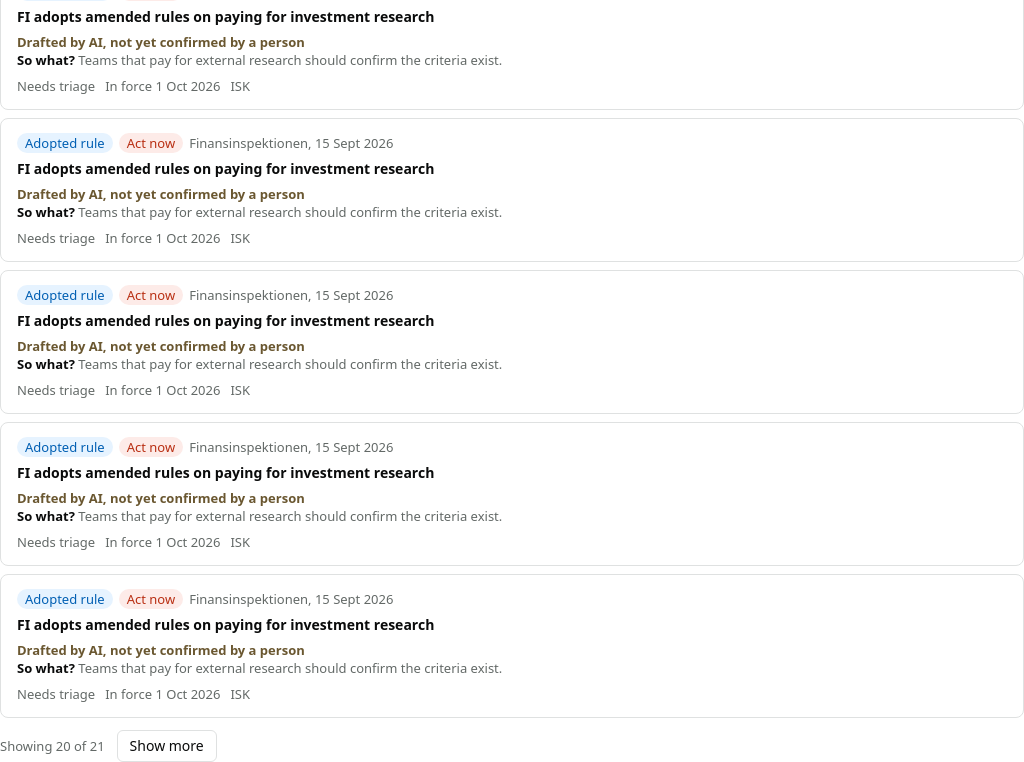
Test case: the watch feed screen › offers another page only while one is left, and appends it
(page scrolled)
Step 1. Click the button "Show more" → (167, 746), box [117,730,217,761]
(page scrolled)
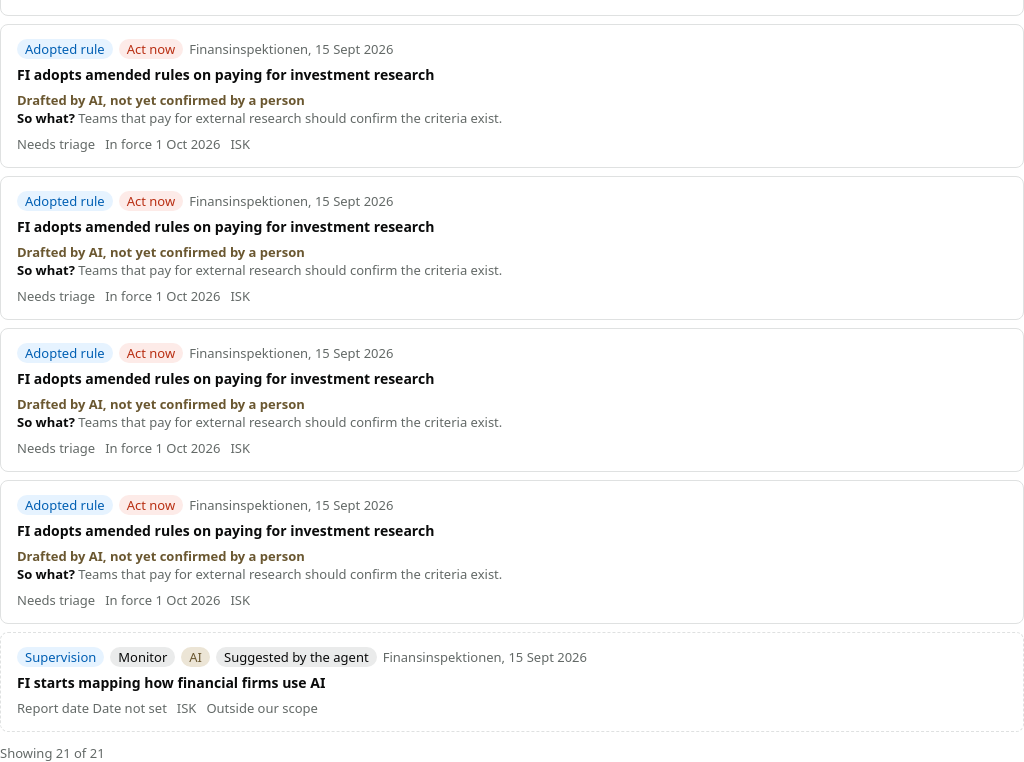
Now the text "Showing 21 of 21" is shown, box [0,744,105,761]
Now the button "Show more" is gone
